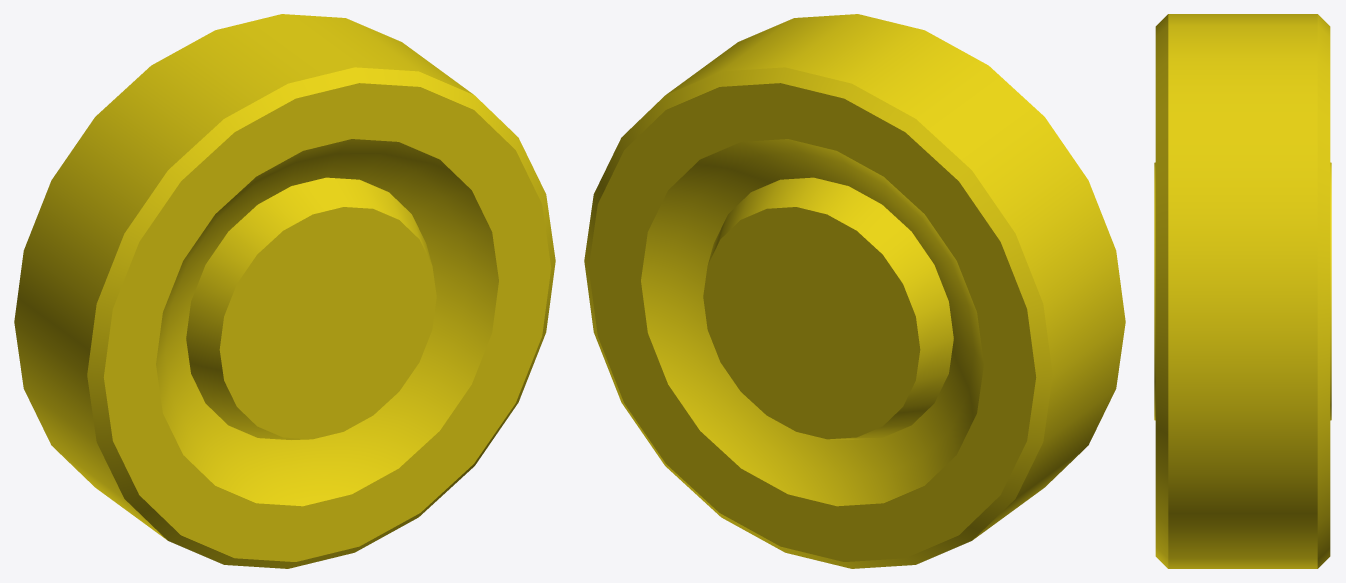
Rendered from Coin.fbx.
The picture shows the model from 3 angles, left to right: view 1: azimuth 30°, elevation 25°; view 2: azimuth 150°, elevation 25°; view 3: azimuth 270°, elevation 25°; orthographic projection. The views are drawn at different scales.
Parts seen in each view (by area): view 1: Coin; view 2: Coin; view 3: Coin.
Part boxes in pixels (x1,y1,x2,y2): Coin: [14, 14, 555, 568]; Coin: [584, 14, 1125, 568]; Coin: [1154, 14, 1331, 568].
Bounding box in the file's own units: 0.3277 × 0.3244 × 0.1048.
